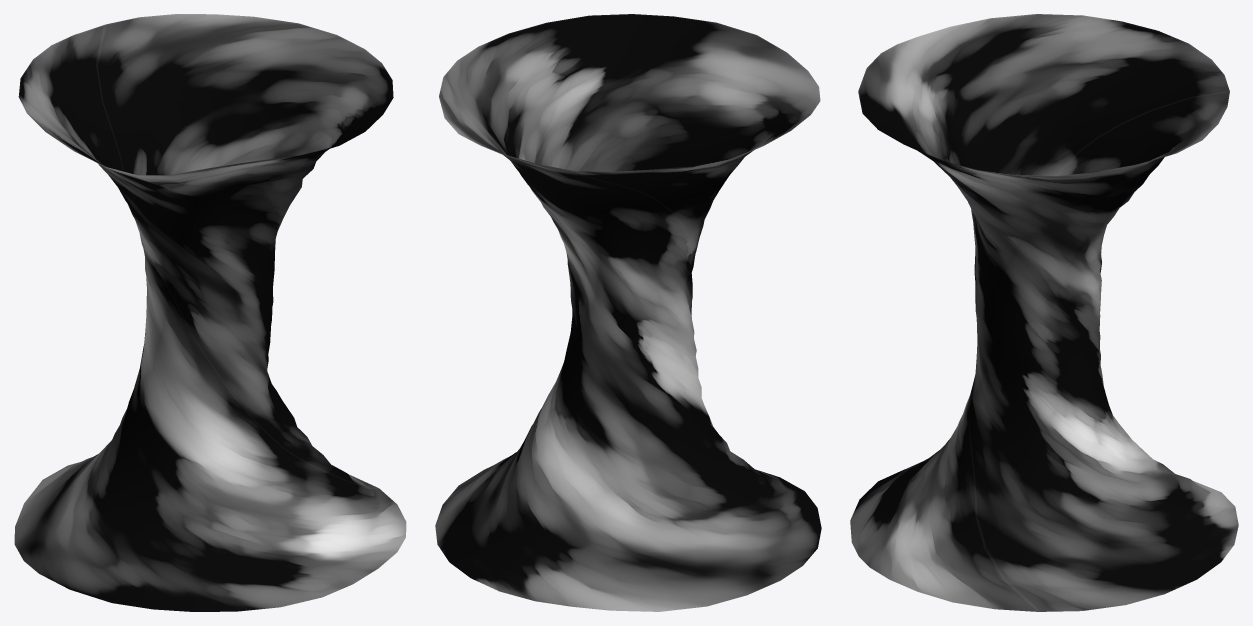
The model's file is Tornado_1.fbx.
The picture shows the model from 3 angles, left to right: view 1: azimuth 30°, elevation 25°; view 2: azimuth 150°, elevation 25°; view 3: azimuth 270°, elevation 25°; orthographic projection.
Parts seen in each view (by area): view 1: Tornado_1; view 2: Tornado_1; view 3: Tornado_1.
Part boxes in pixels (<box>): Tornado_1: <box>14,14,406,611</box>; Tornado_1: <box>435,14,821,611</box>; Tornado_1: <box>850,14,1238,611</box>.
Bounding box in the file's own units: 97.91 × 122 × 96.49.
Materials: 1 (1 with a texture image).
